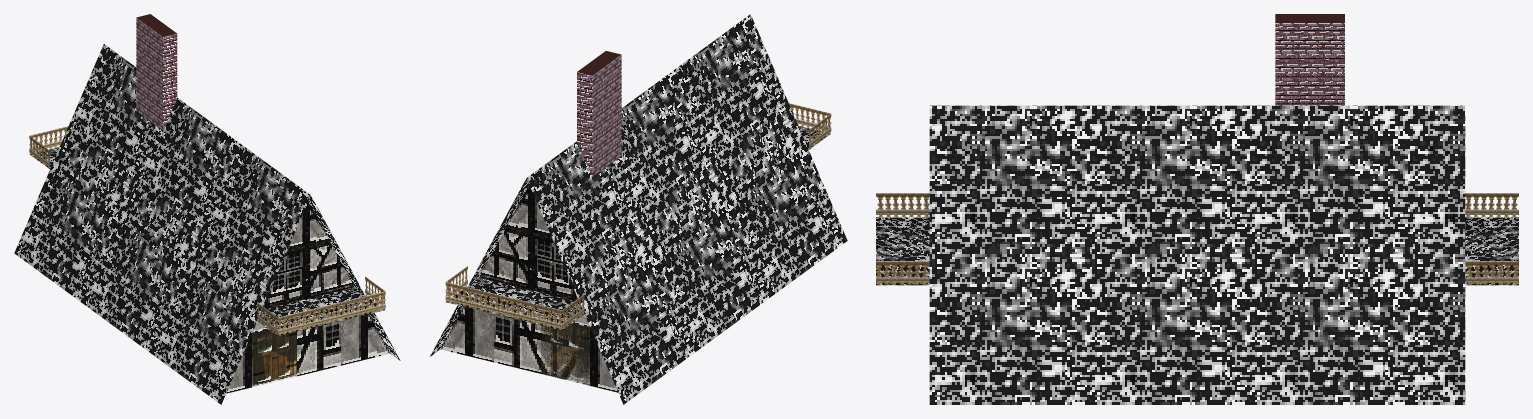
Rendered from uvmd-0183.glb.
3 renders of one model, left to right at view 1: azimuth 30°, elevation 25°; view 2: azimuth 150°, elevation 25°; view 3: azimuth 270°, elevation 25°, orthographic. The views are drawn at different scales.
Parts seen in each view (by area): view 1: uvmd-0183; view 2: uvmd-0183; view 3: uvmd-0183.
Boxes of the visible parts, x1,y1,x2,y2 form: uvmd-0183: (14,14,400,404); uvmd-0183: (430,14,847,404); uvmd-0183: (876,14,1518,404).
Bounding box in the file's own units: 100 × 134 × 240.
Materials: 6 (6 with a texture image).
